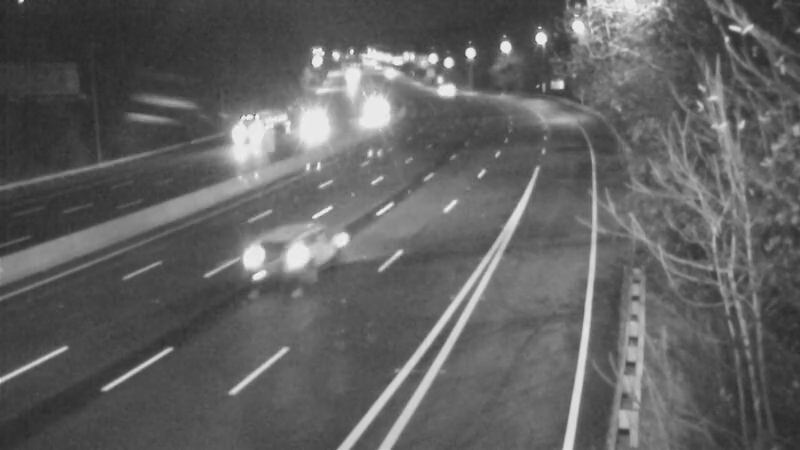vehicle: (227, 225, 307, 305), (416, 64, 466, 114), (218, 108, 268, 158), (293, 100, 343, 150), (346, 90, 396, 140)
